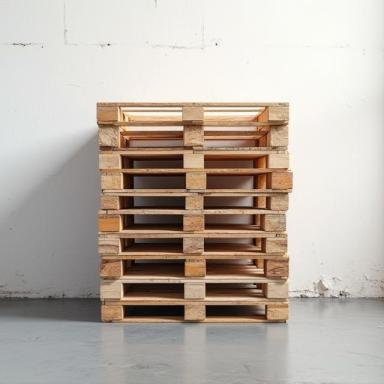pallet: (97, 121, 289, 151), (101, 169, 293, 193), (97, 210, 287, 234), (100, 255, 289, 279), (98, 234, 288, 256), (100, 279, 289, 301), (101, 301, 289, 323), (96, 102, 289, 122), (99, 150, 289, 169), (100, 193, 289, 211), (204, 127, 256, 148), (123, 176, 185, 191), (207, 174, 266, 189), (124, 305, 184, 319), (124, 283, 184, 296), (206, 305, 265, 316), (134, 214, 183, 223), (205, 238, 253, 246), (129, 140, 183, 147), (204, 107, 265, 112), (129, 127, 183, 132), (135, 238, 183, 243), (204, 112, 259, 116), (206, 259, 254, 263), (124, 112, 182, 115), (123, 108, 182, 109)
